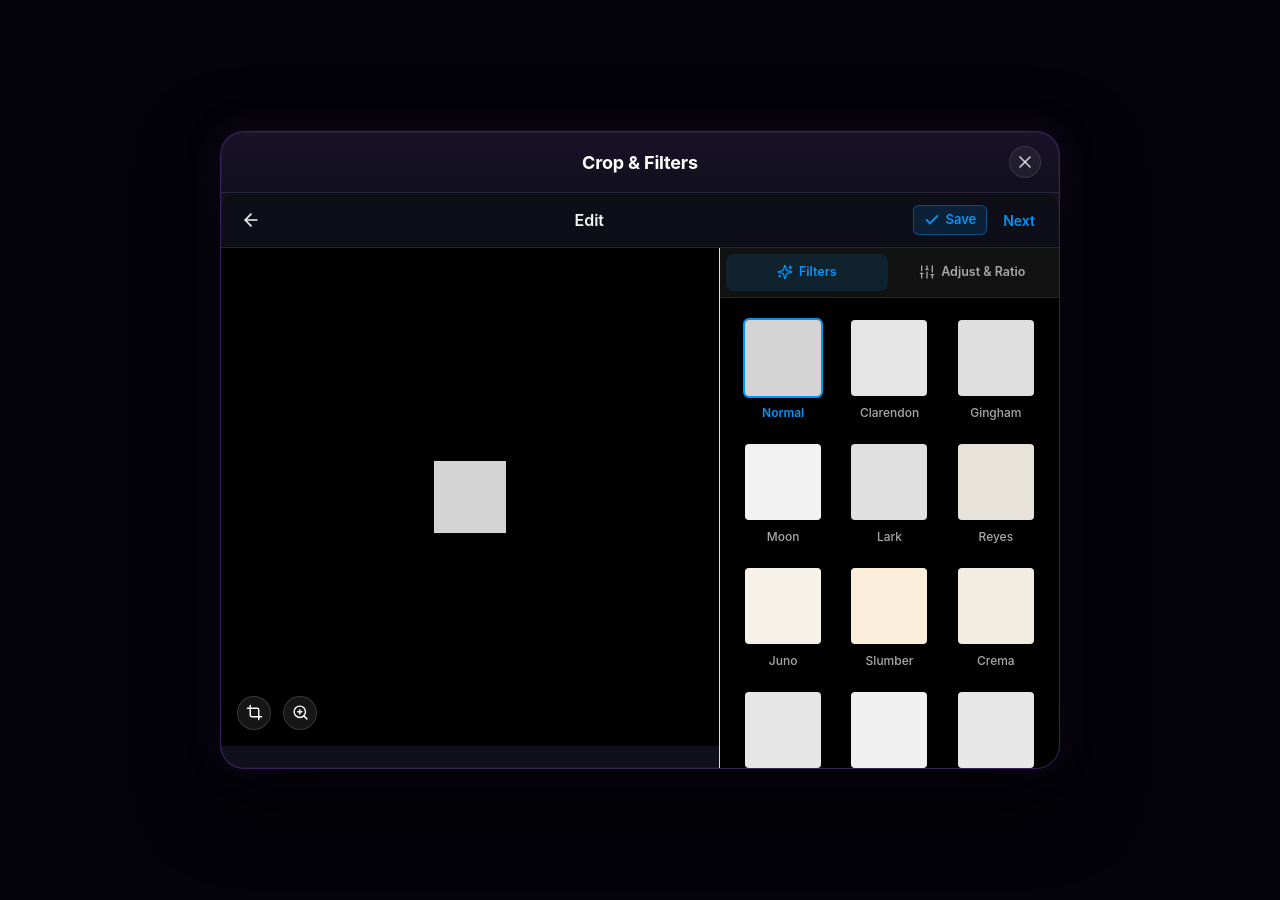
Test: CreatePostModal Crop & Zoom Features › toggles aspect ratios correctly
Earlier steps of the test are not shown.
Check: the heading "Crop & Filters" is shown, box [582,152,698,173]
Click the button "Adjust & Ratio": click(972, 272) [892,254,1053,291]
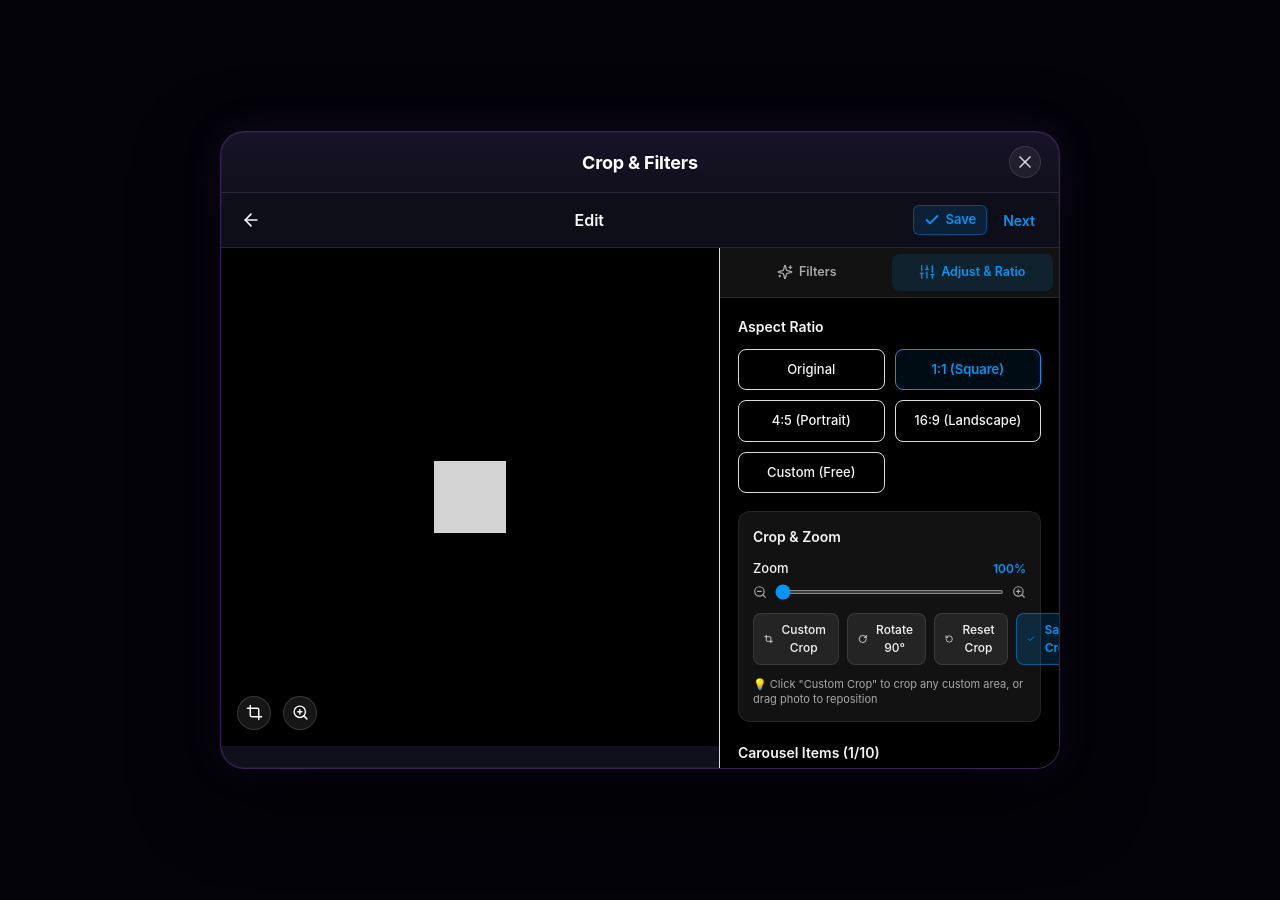
Click the button "4:5 (Portrait)": click(811, 421) [738,400,884,442]
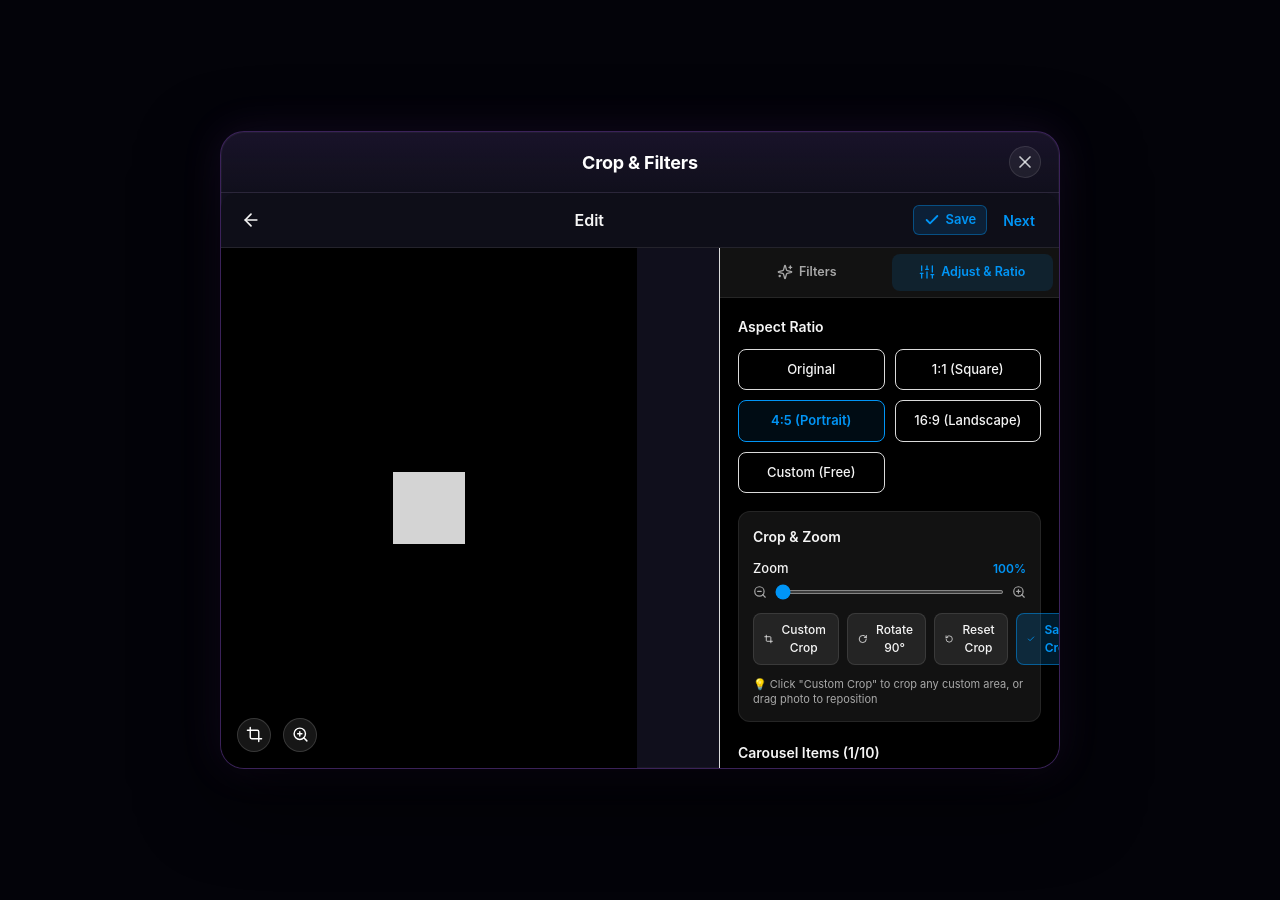
Check: the button "4:5 (Portrait)" has class "active", box [738,400,884,442]
Click the button "16:9 (Landscape)": click(968, 421) [894,400,1041,442]
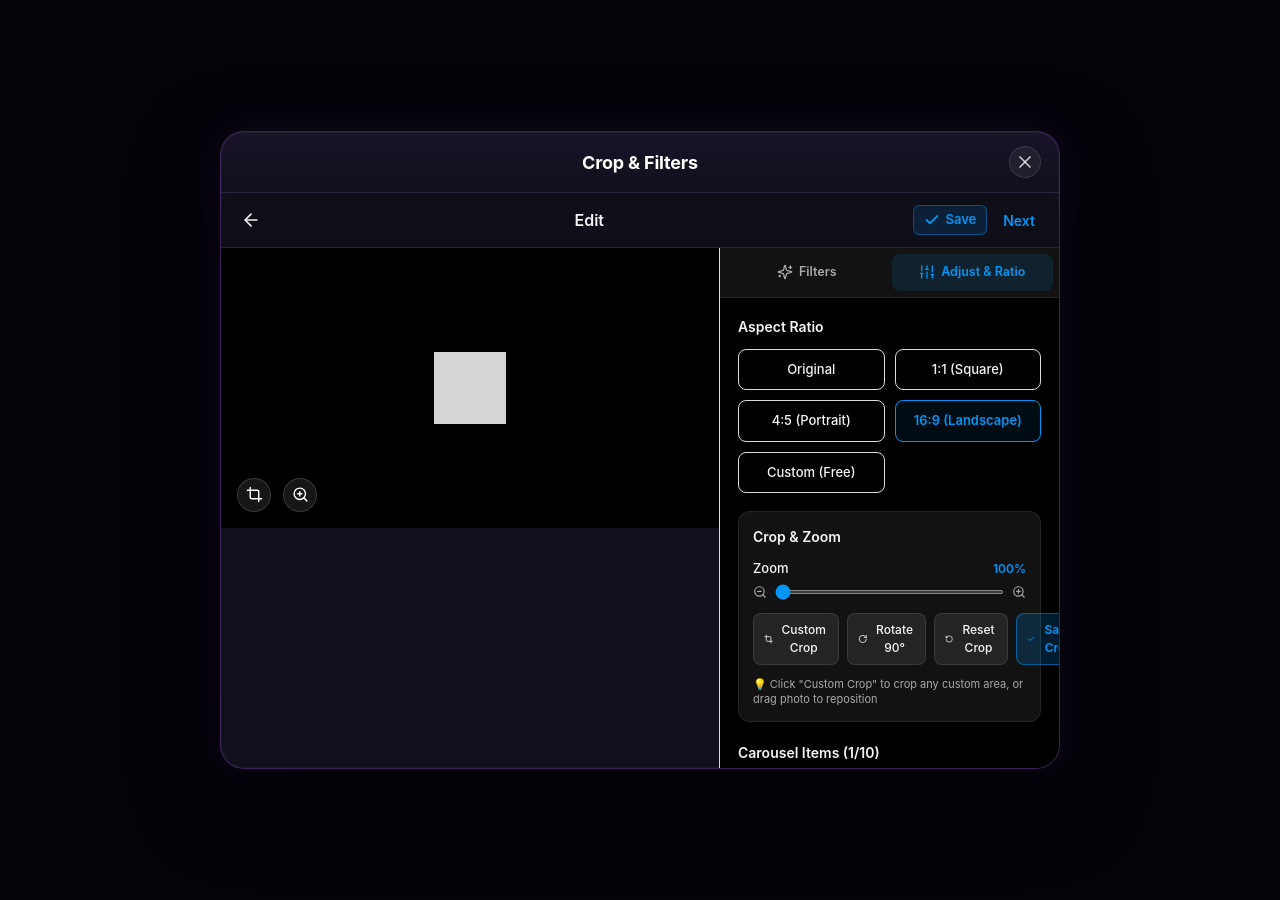
Check: the button "16:9 (Landscape)" has class "active", box [894,400,1041,442]
Click the button "Custom (Free)": click(811, 472) [738,452,884,493]
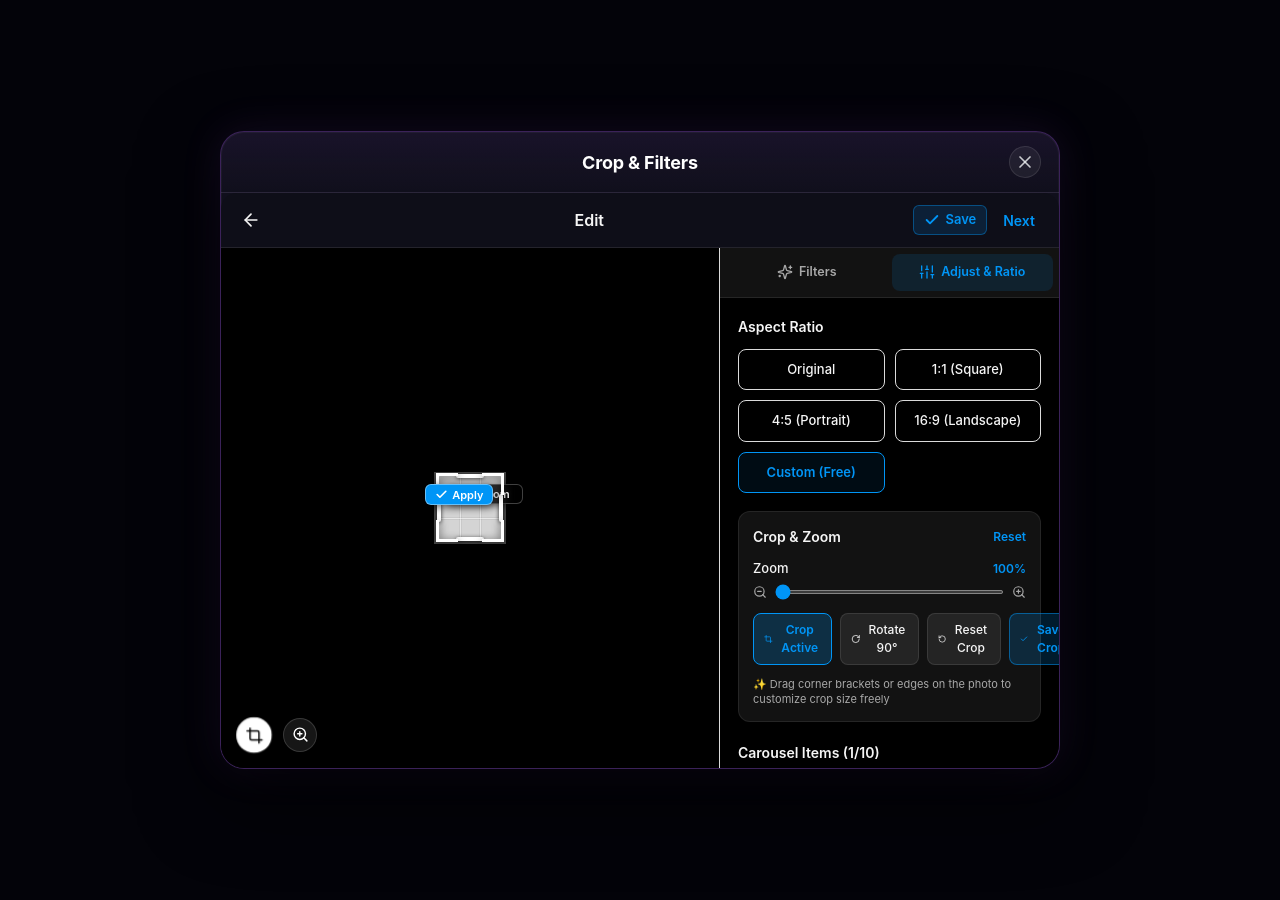
Check: the element with class "ig-custom-crop-frame" is shown, box [438,475,502,540]
Check: the element with class "handle-nw" is shown, box [436,473,458,495]
Check: the element with class "handle-se" is shown, box [482,520,504,542]
